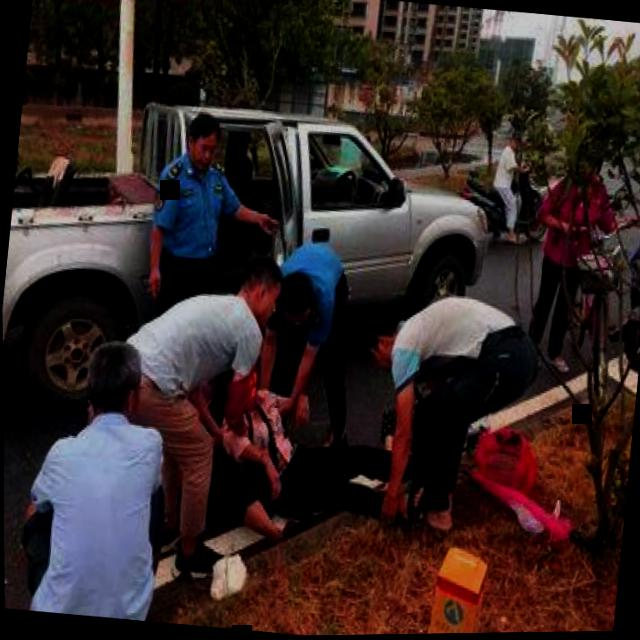Fall-Detected: (186, 342, 444, 558)
